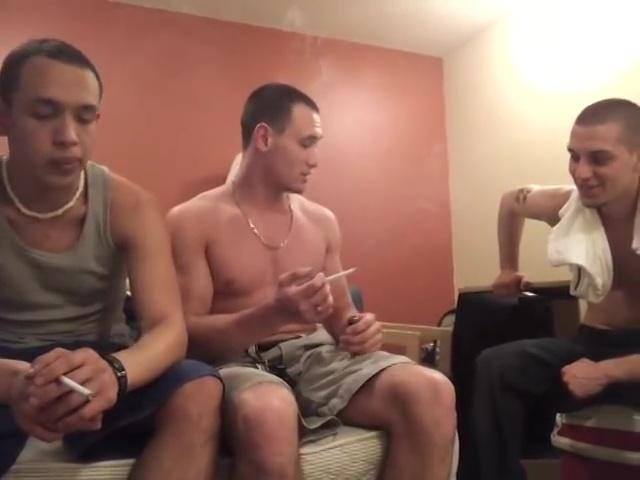cigarette: (56, 372, 100, 401), (327, 266, 357, 281)
